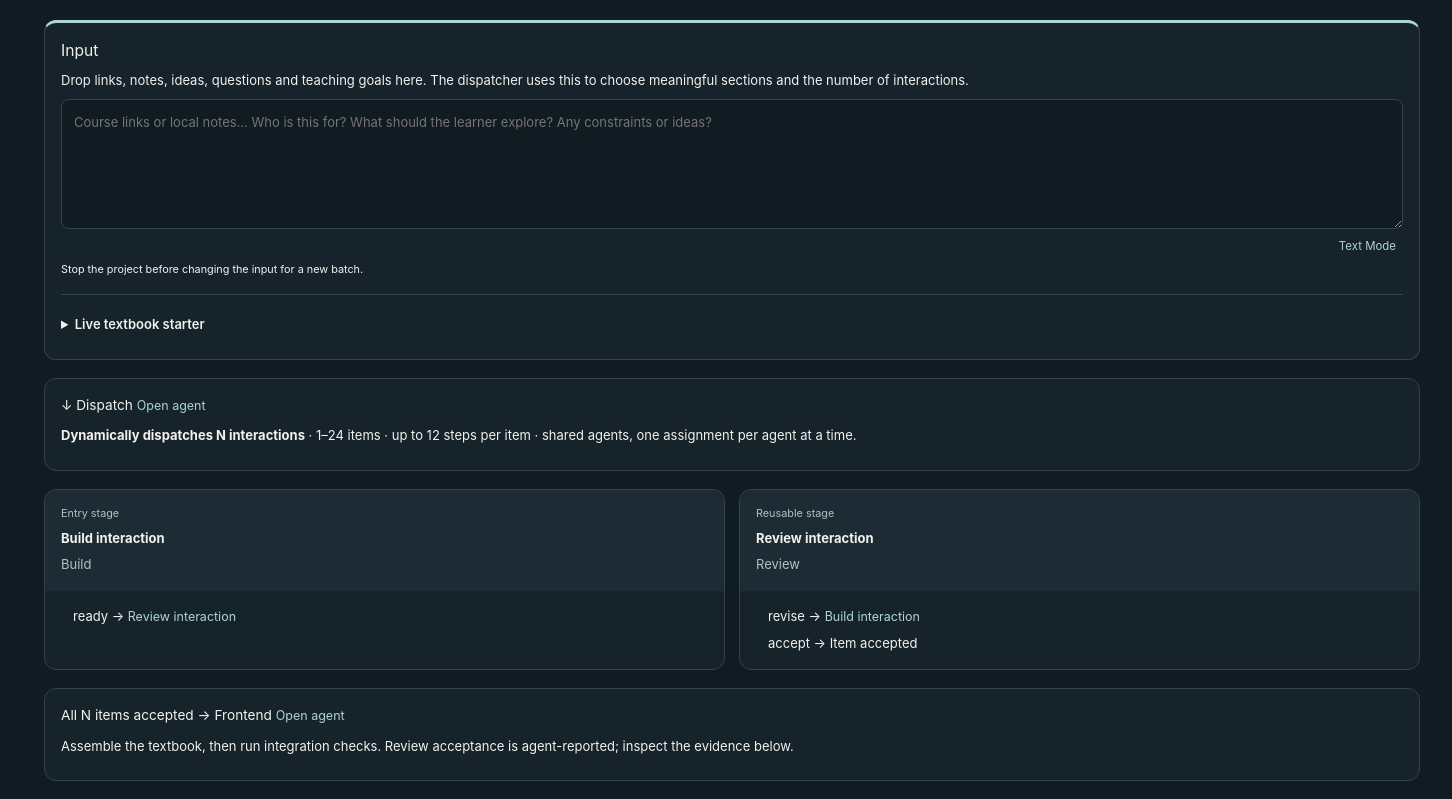
locks input and stage configuration while running
Step 1. Click the button "Entry stage Build interaction Build" → [90, 513], box [45,490,724,591]
(page scrolled)
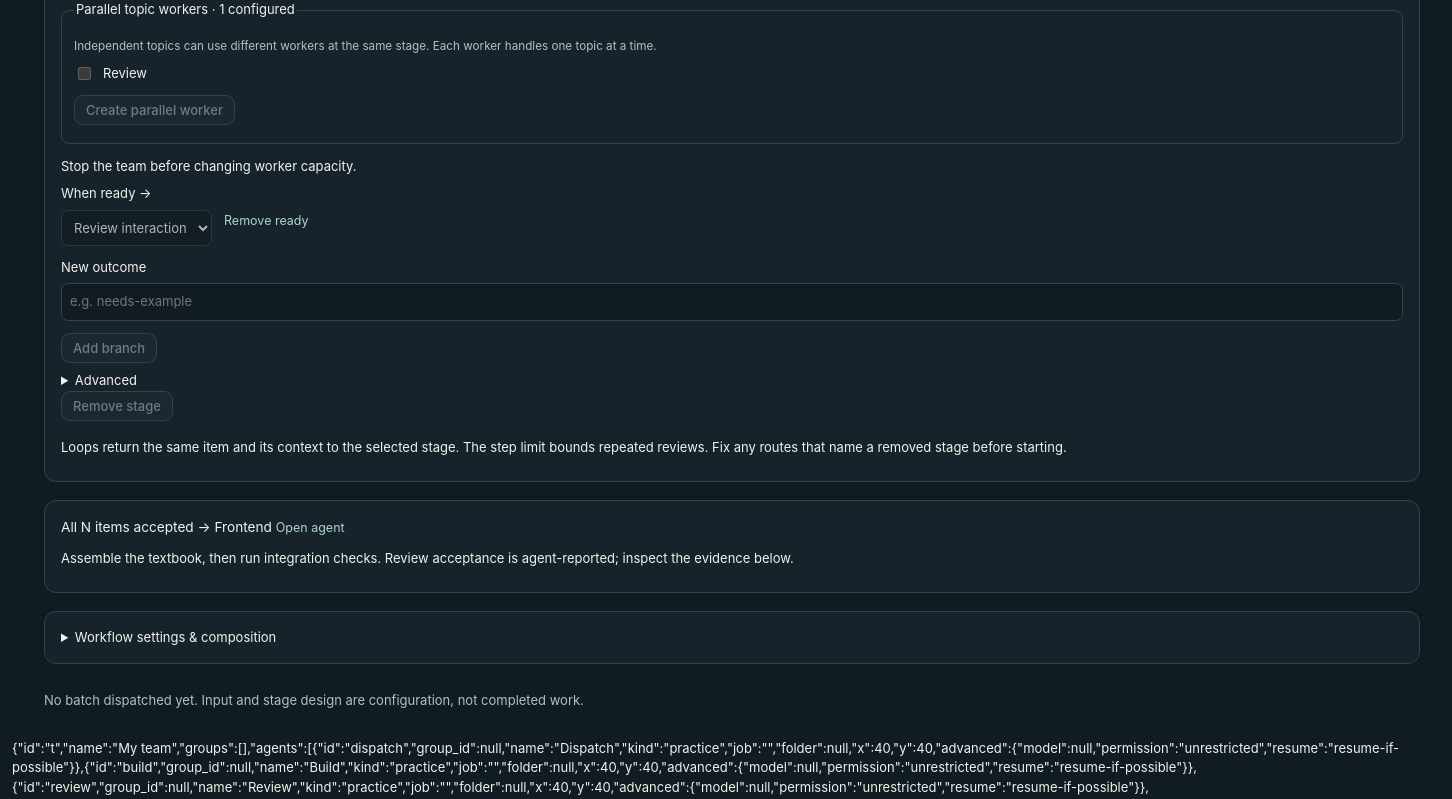
Now the button "Remove stage" is disabled, box [61,391,173,421]
